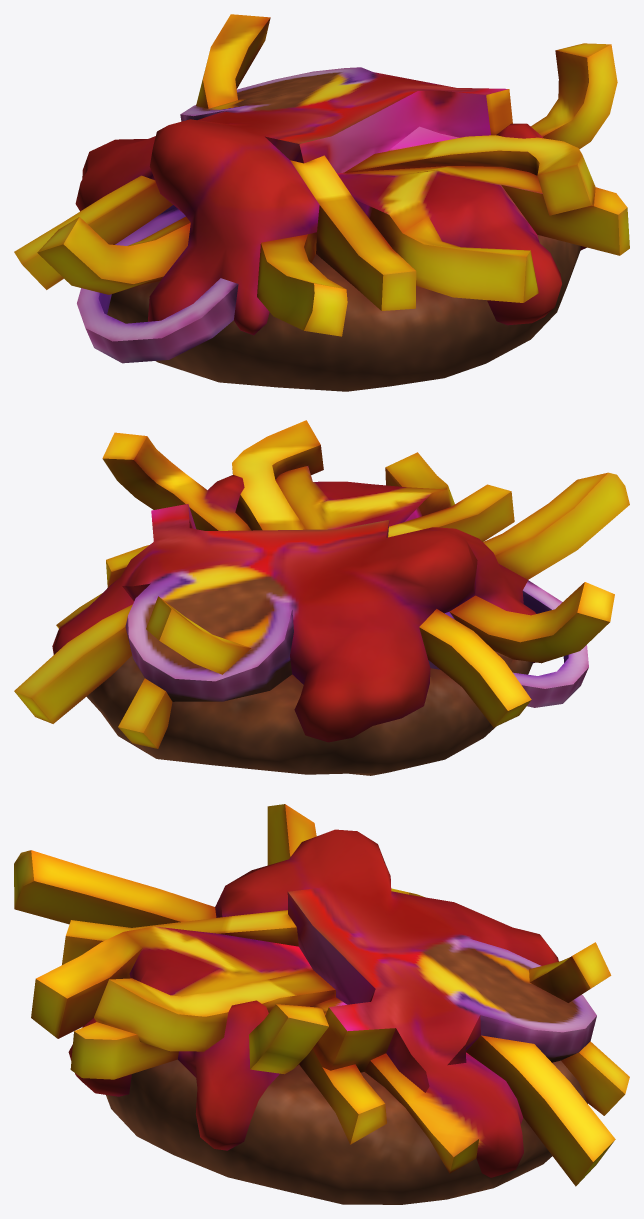
File: cookbot_food_01.fbx
The picture shows the model from 3 angles, top to bottom: view 1: azimuth 30°, elevation 25°; view 2: azimuth 150°, elevation 25°; view 3: azimuth 270°, elevation 25°; orthographic projection. The views are drawn at different scales.
Parts seen in each view (by area): view 1: burger_01; view 2: burger_01; view 3: burger_01.
Boxes of the visible parts, box(x1,y1,x2,y2) form: burger_01: box(14, 14, 629, 391); burger_01: box(14, 420, 629, 775); burger_01: box(14, 804, 629, 1204).
Bounding box in the file's own units: 1.28 × 0.5052 × 1.24.
